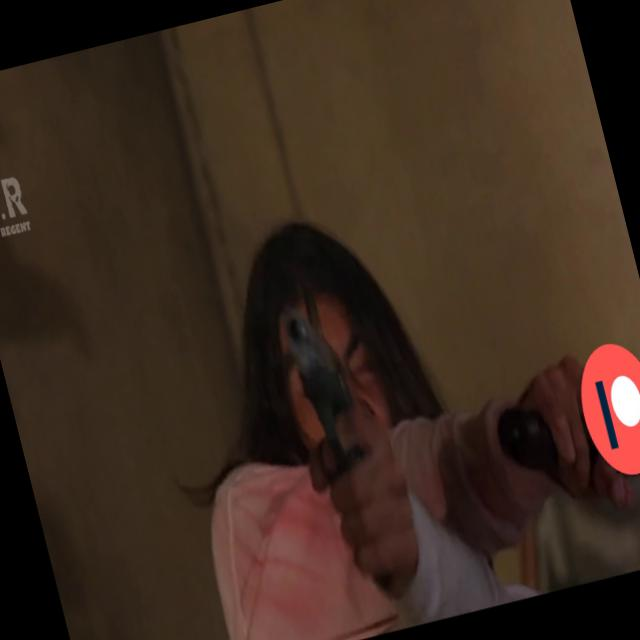handgun: (270, 282, 392, 469)
